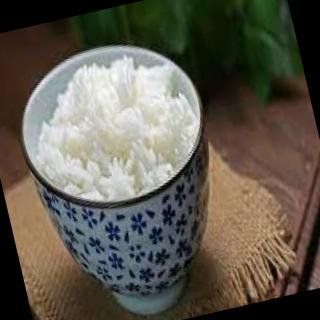Nasi: (16, 38, 211, 215)
